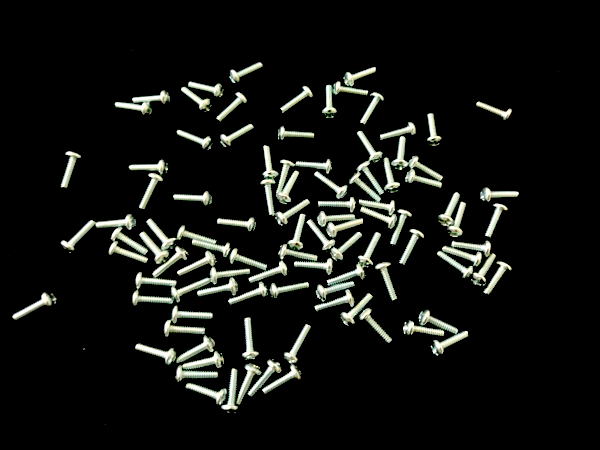shortscrew: (246, 359, 282, 399), (11, 291, 57, 322), (261, 365, 303, 396), (60, 219, 96, 255), (358, 308, 393, 345), (282, 324, 312, 367), (339, 293, 375, 327), (437, 251, 474, 282), (110, 227, 149, 256), (430, 330, 470, 358), (170, 277, 213, 303), (236, 363, 262, 406), (418, 309, 459, 336), (483, 262, 513, 298), (177, 337, 216, 364), (185, 383, 227, 408), (355, 161, 385, 196), (230, 282, 270, 308), (216, 92, 249, 123), (349, 173, 383, 203), (313, 171, 348, 200), (307, 219, 336, 253), (279, 86, 314, 114), (275, 199, 310, 227), (177, 225, 217, 249), (134, 342, 177, 364), (108, 242, 149, 265), (230, 248, 269, 272), (219, 124, 255, 150), (398, 230, 424, 266), (139, 173, 164, 210), (357, 232, 382, 269), (407, 156, 444, 181), (315, 290, 355, 313), (326, 264, 366, 287), (375, 262, 398, 302), (177, 129, 215, 153), (442, 246, 483, 268), (180, 86, 213, 113), (356, 131, 383, 164), (471, 253, 497, 287), (191, 238, 233, 259), (222, 369, 241, 415), (315, 281, 356, 302), (361, 207, 398, 230), (437, 193, 462, 227), (198, 278, 240, 298), (485, 203, 509, 238), (59, 152, 81, 190), (390, 210, 413, 246), (242, 318, 261, 361), (277, 171, 301, 205), (271, 281, 311, 301), (476, 102, 514, 123), (326, 218, 364, 239), (403, 320, 445, 339), (134, 272, 178, 290), (230, 62, 264, 85), (404, 170, 443, 190), (173, 190, 214, 209), (447, 202, 468, 239), (171, 306, 214, 324), (163, 320, 206, 338), (182, 351, 225, 369), (361, 93, 385, 125), (175, 366, 219, 383), (343, 65, 377, 87), (287, 214, 307, 251), (129, 159, 169, 177), (132, 291, 174, 308), (317, 211, 356, 229), (382, 158, 402, 193), (96, 214, 137, 231), (113, 101, 154, 118), (216, 217, 257, 234), (210, 267, 251, 284), (480, 186, 520, 203), (451, 241, 491, 258), (380, 122, 417, 140), (189, 81, 225, 99), (260, 179, 277, 217), (277, 160, 296, 194), (132, 90, 172, 106), (359, 199, 396, 216), (262, 146, 280, 180), (295, 159, 333, 175), (426, 113, 443, 148), (333, 82, 370, 98), (317, 197, 356, 212), (392, 137, 409, 171), (322, 85, 337, 119), (277, 127, 315, 140)
